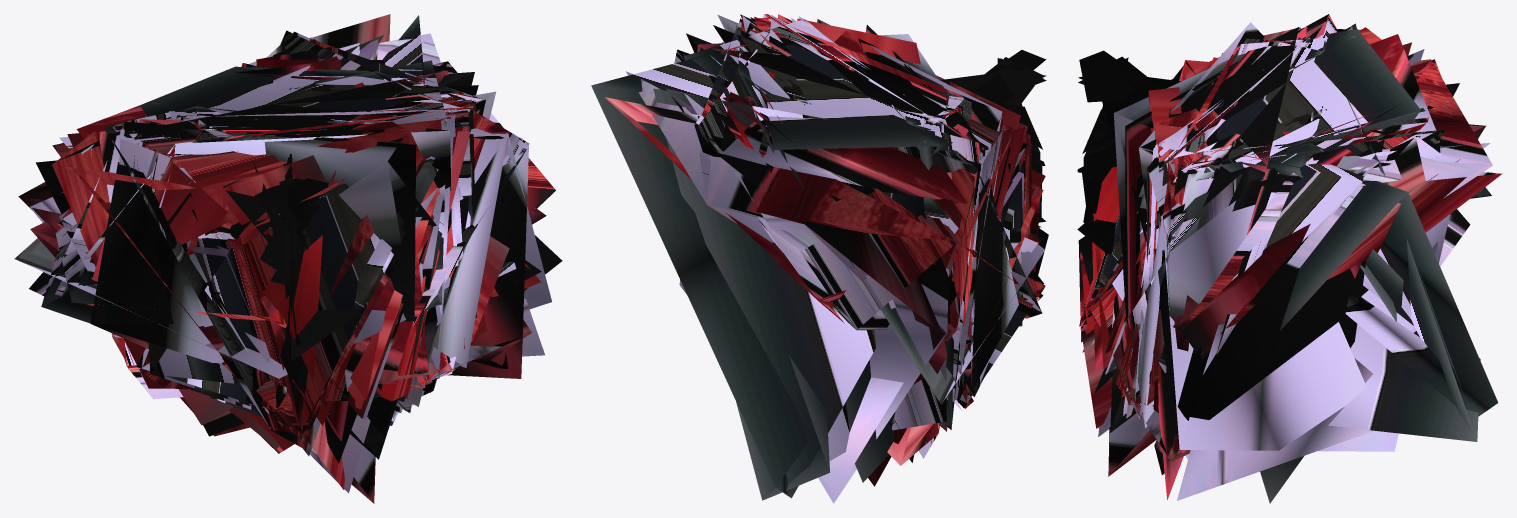
File: carroMorado.gltf
3 renders of one model, left to right at view 1: azimuth 30°, elevation 25°; view 2: azimuth 150°, elevation 25°; view 3: azimuth 270°, elevation 25°, orthographic. The views are drawn at different scales.
Parts seen in each view (by area): view 1: frontWheelLeft_1, car01, windows; view 2: frontWheelLeft_1, car01; view 3: frontWheelLeft_1, car01, windows.
Part boxes in pixels (box(x1,y1,x2,y2)): frontWheelLeft_1: box(14, 14, 562, 503); car01: box(254, 87, 359, 361); windows: box(223, 153, 298, 290); frontWheelLeft_1: box(591, 14, 1048, 503); car01: box(804, 50, 1046, 227); frontWheelLeft_1: box(1078, 14, 1502, 503); car01: box(1077, 50, 1326, 254); windows: box(1082, 61, 1195, 153).
Bounding box in the file's own units: 2.37 × 1.93 × 1.93.
Materials: 2 (1 with a texture image).
